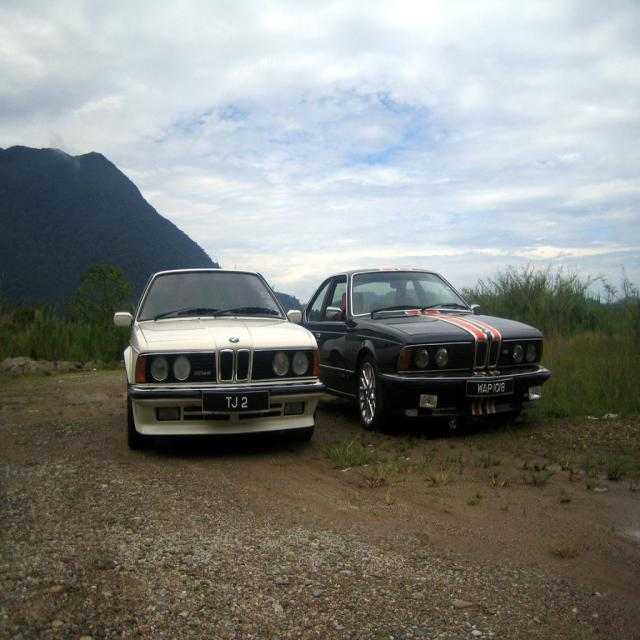car: (115, 266, 323, 442)
